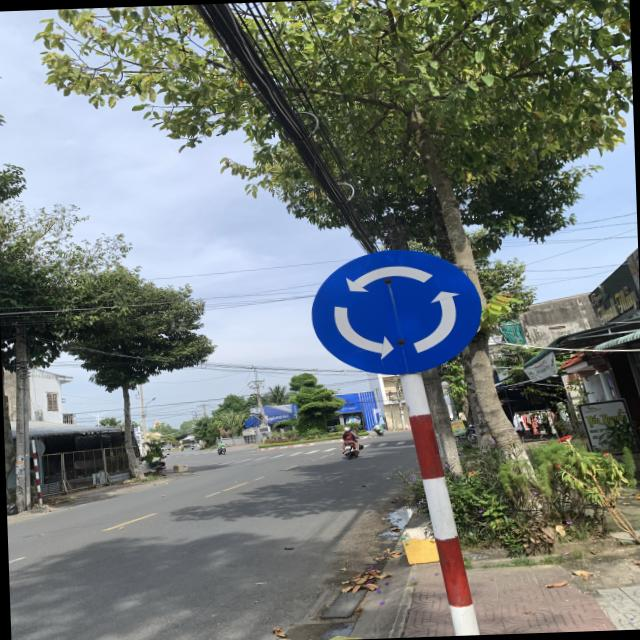Xe_Bus: (309, 246, 487, 379)
